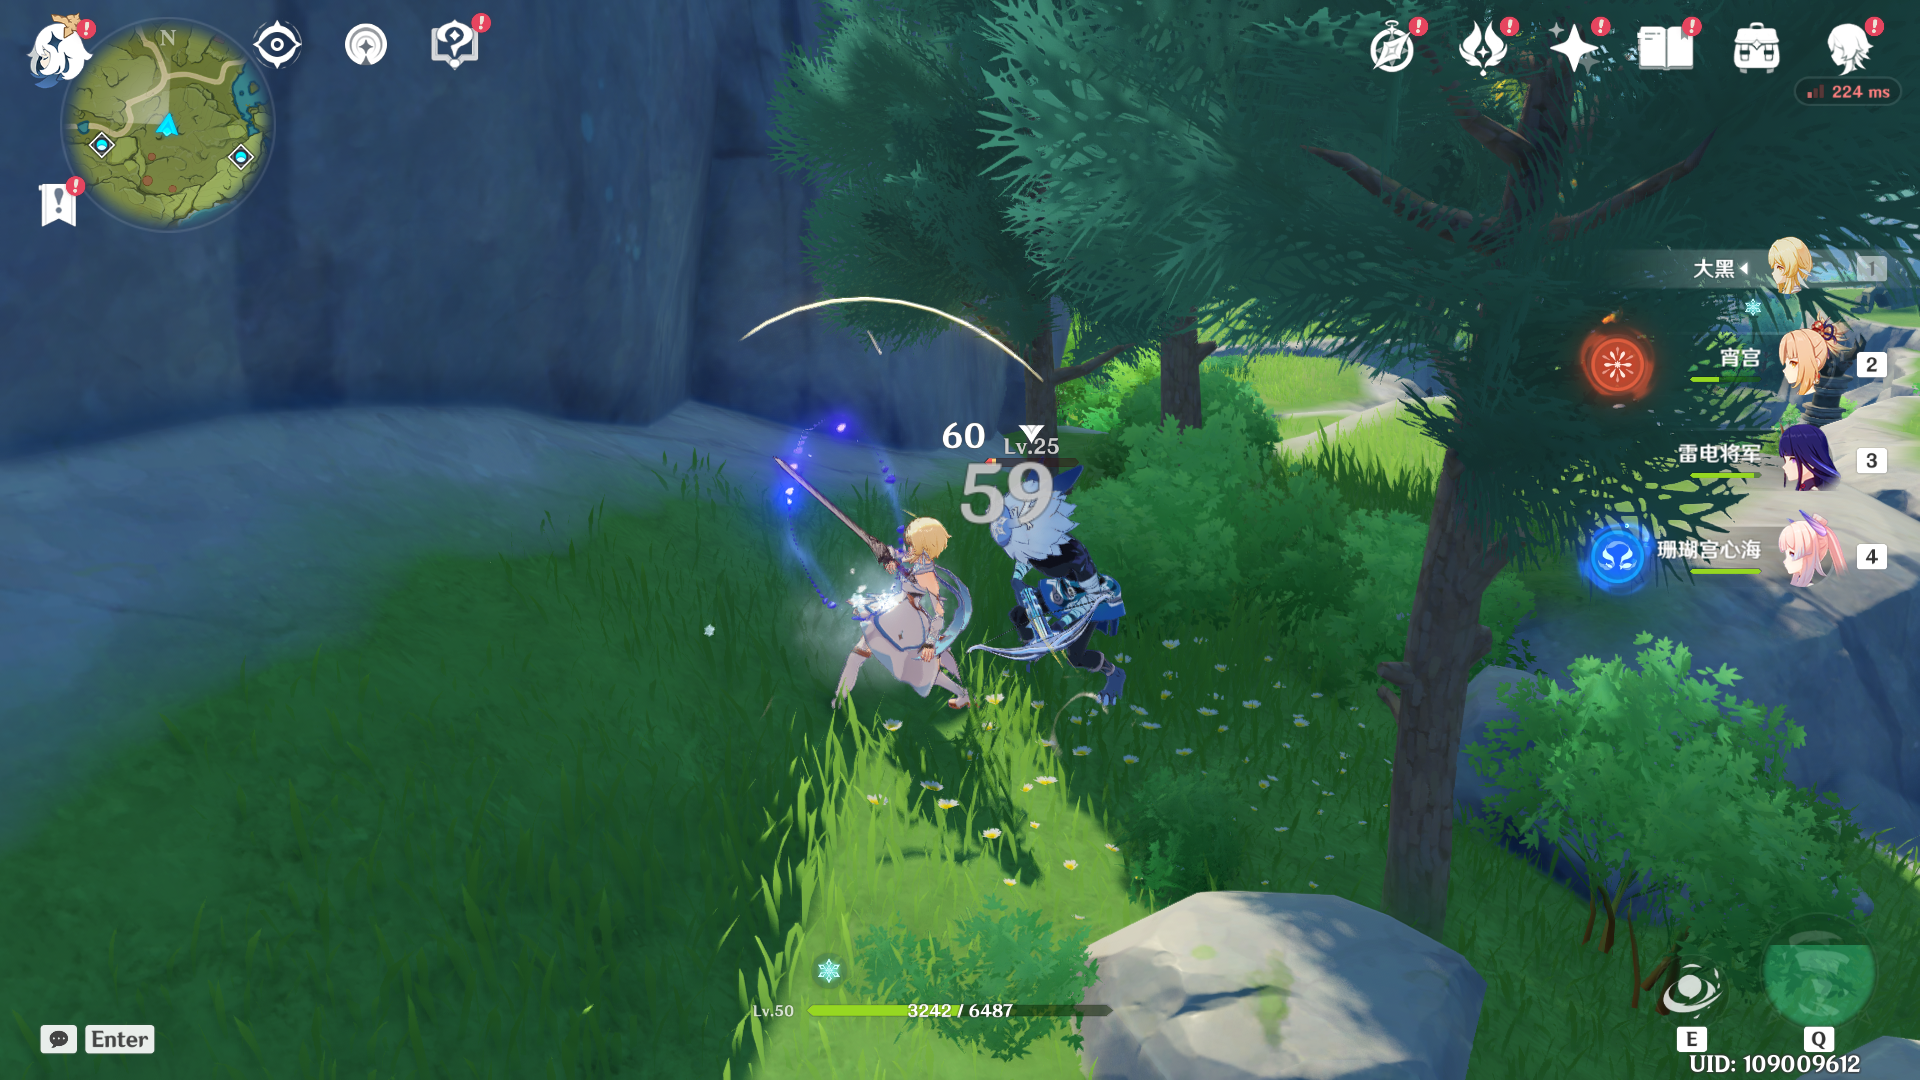character: (761, 436, 1015, 746)
hili: (934, 446, 1187, 735)
